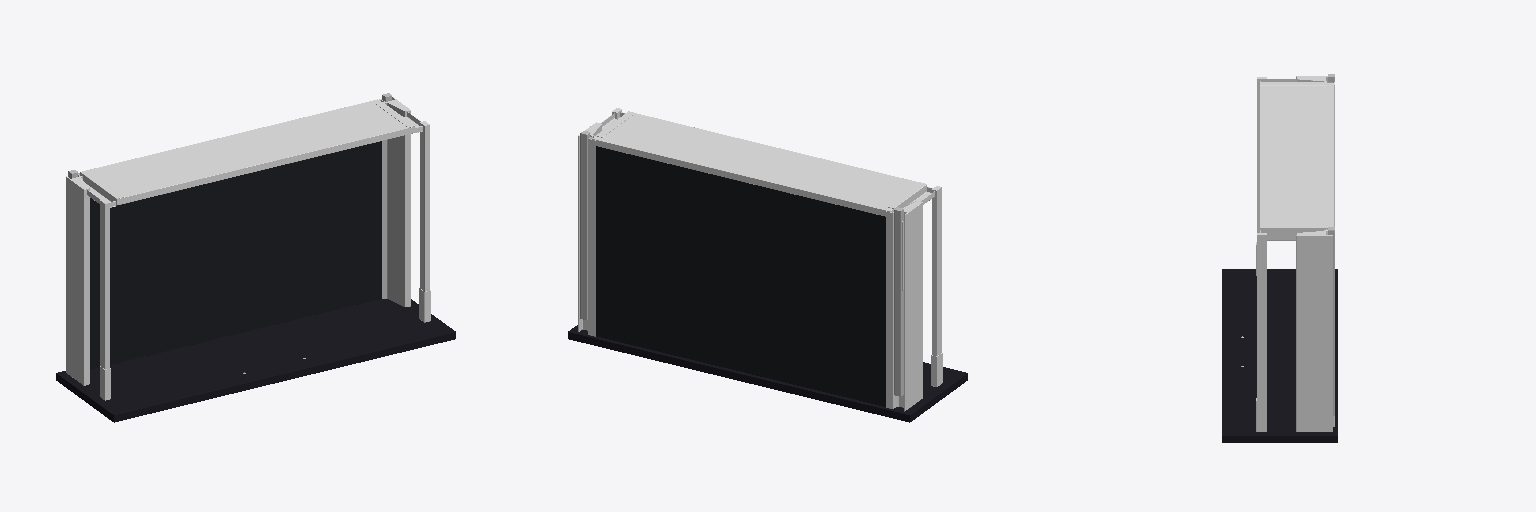
3 views of the same model, side by side, from view 1: azimuth 30°, elevation 25°; view 2: azimuth 150°, elevation 25°; view 3: azimuth 270°, elevation 25° (orthographic).
Parts seen in each view (by area): view 1: SM_Kitchen_11_Drawer_02; view 2: SM_Kitchen_11_Drawer_02; view 3: SM_Kitchen_11_Drawer_02.
Boxes of the visible parts, <box> form: SM_Kitchen_11_Drawer_02: <box>56,93,455,422</box>; SM_Kitchen_11_Drawer_02: <box>568,108,967,422</box>; SM_Kitchen_11_Drawer_02: <box>1222,74,1337,442</box>.
Bounding box in the file's own units: 0.8969 × 0.5199 × 0.263.
Materials: 4 (3 with a texture image).